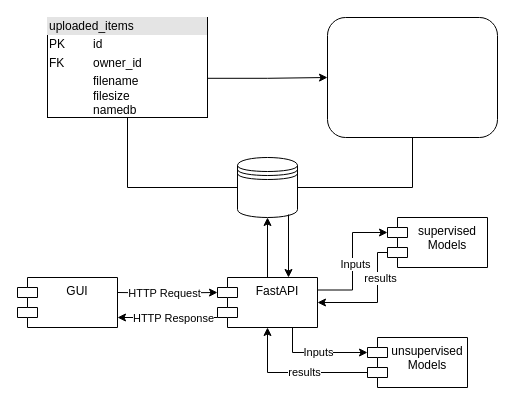
Some shapes in this 515 by 405 pixel diagram are drawn without their labels. The shapes that lost their labels are listed below. From the top down, each one's centre as x and y in pixels, then its label:
At (412,77): "users_table PK id username fullname email password disabled".
At (267,187): "Postgres DB".
